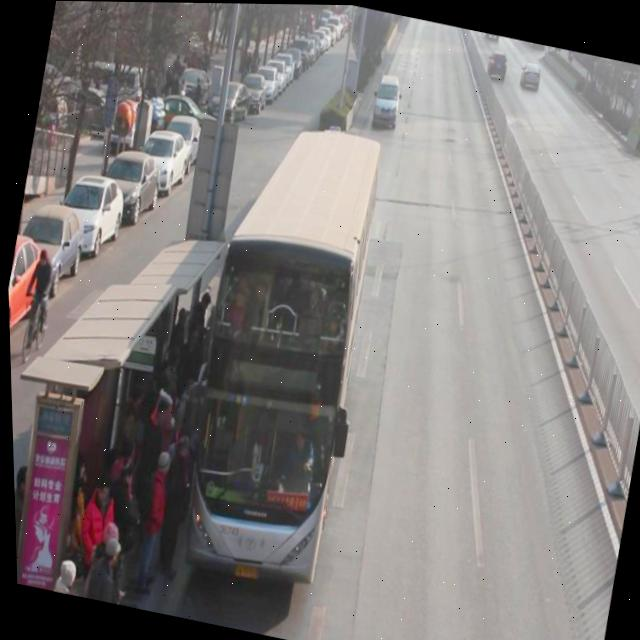truck: (370, 71, 405, 131)
van: (165, 110, 394, 581)
